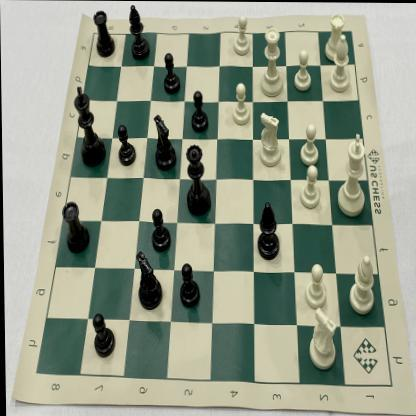black-bishop: (254, 198, 281, 262), (127, 2, 150, 61)
black-king: (72, 82, 108, 170)
black-knight: (132, 247, 162, 313), (151, 112, 177, 173)
black-pawn: (90, 310, 118, 360), (149, 206, 173, 255), (160, 48, 182, 97), (178, 260, 199, 310), (188, 88, 210, 134), (115, 122, 136, 170)
black-queen: (182, 142, 212, 218)
black-rook: (60, 197, 92, 254), (92, 6, 116, 61)
white-bishop: (346, 252, 378, 316), (327, 31, 351, 93)
white-king: (332, 129, 370, 218)
white-knight: (306, 305, 336, 372), (256, 109, 284, 171)
white-pawn: (298, 162, 322, 212), (304, 260, 328, 310), (230, 78, 252, 128), (231, 11, 254, 58), (292, 47, 314, 94), (298, 122, 320, 166)
white-queen: (257, 24, 285, 99)
white-rook: (324, 8, 347, 63)
